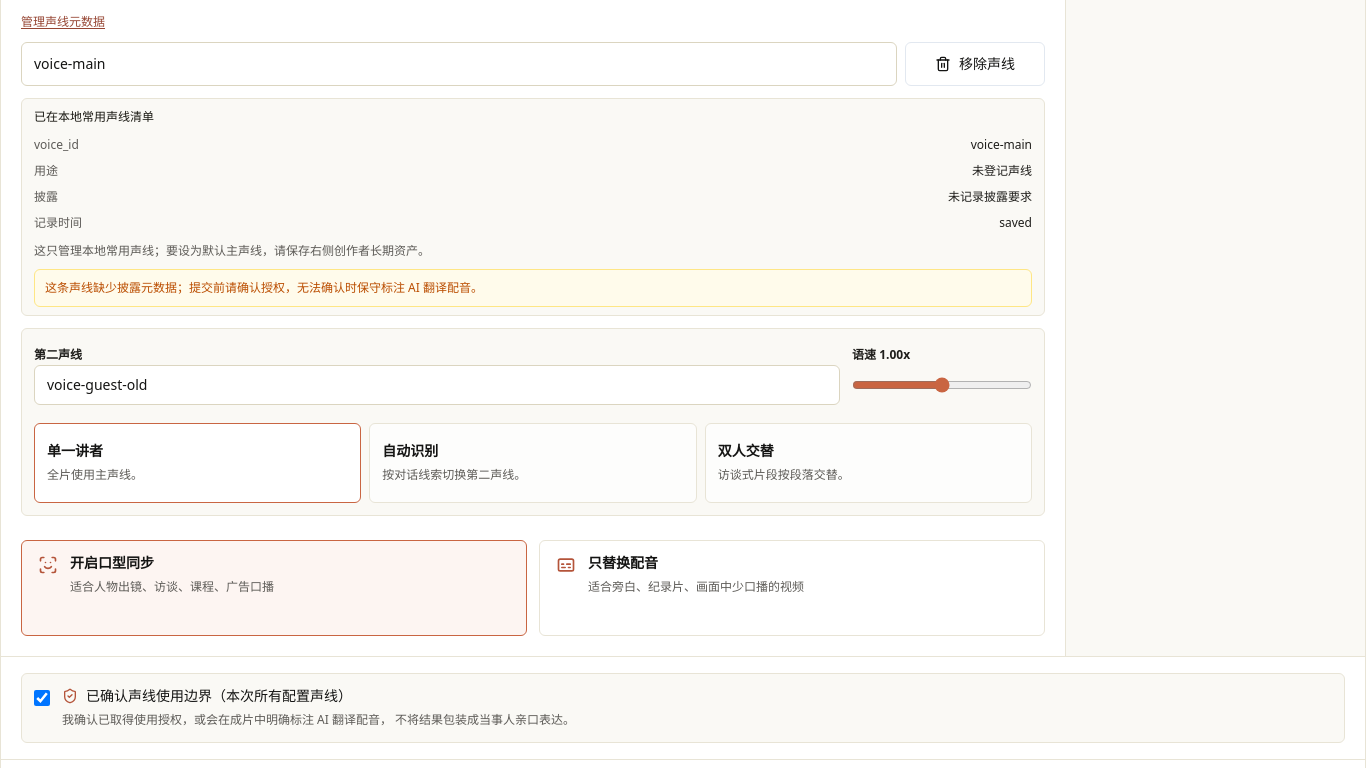
Test: DubbingForm creator assets › invalidates usage-boundary acknowledgement when the secondary voice changes
(page scrolled)
Expected: the field showing "voice-main" is shown, top-left (21, 42), bottom-right (897, 86)
Replace the text in the field labelled "第二声线" with "voice-guest-new". click: (437, 384)
box: top-left (34, 364), bottom-right (840, 404)
(page scrolled)
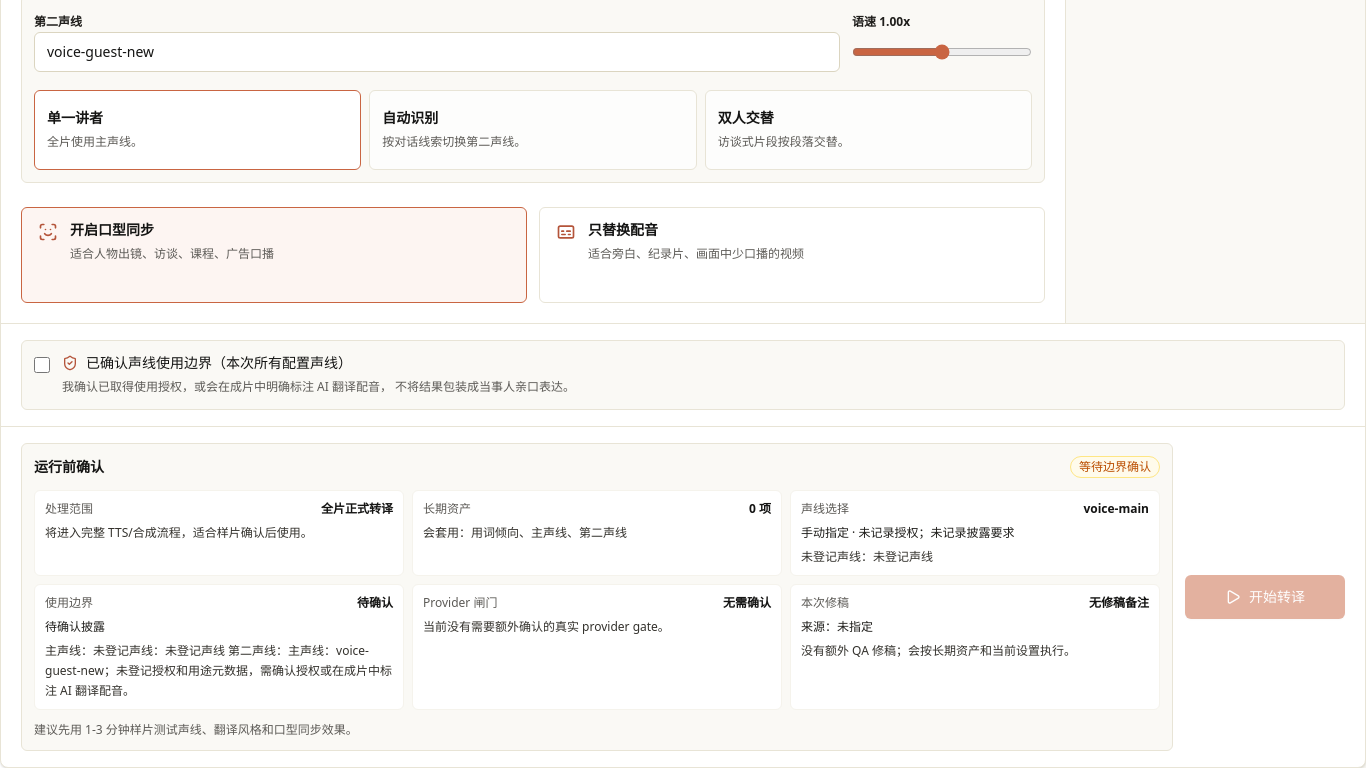
Expected: the checkbox labelled "已确认声线使用边界" is not checked, top-left (34, 356), bottom-right (50, 372)
Expected: the text "等待边界确认" is shown, top-left (1070, 456), bottom-right (1160, 478)
Expected: the button "开始转译" is disabled, top-left (1185, 574), bottom-right (1345, 618)
